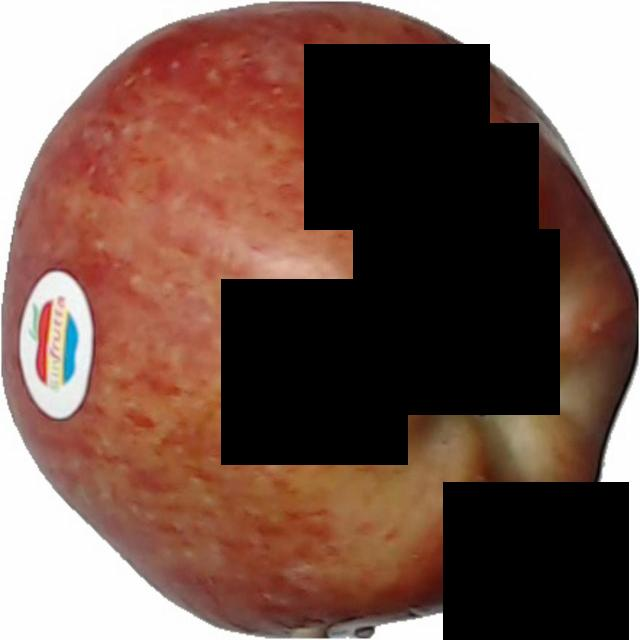apple: (9, 0, 638, 637)
